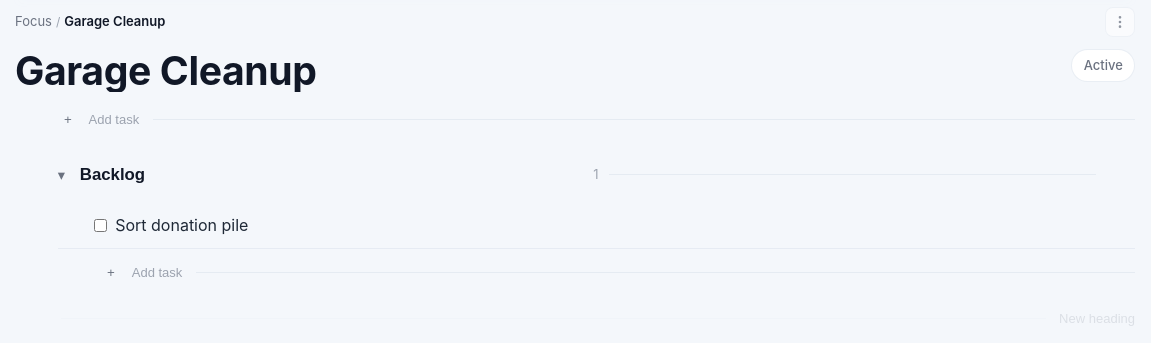
Test: ProjectEditorView › collapses and expands tasks under a heading
Expected: the button "Sort donation pile" is shown, 115,213 -> 1096,237
Click the button named "Collapse Backlog" at (61, 175), box 51,164 -> 72,185
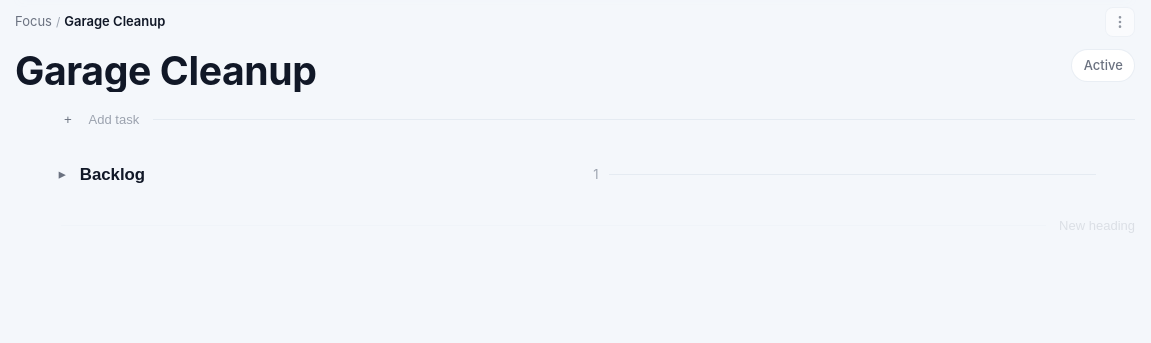
Expected: the button "Sort donation pile" is gone
Click the button named "Expand Backlog" at (61, 175), box 51,164 -> 72,185
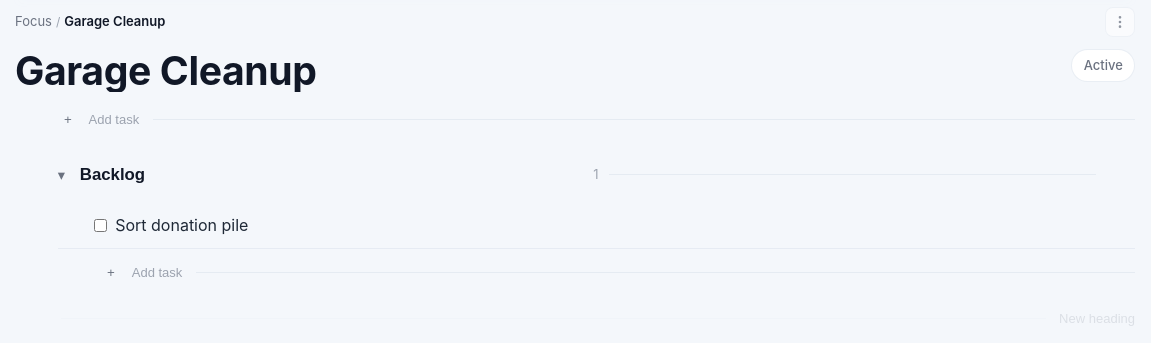
Expected: the button "Sort donation pile" is shown, 115,213 -> 1096,237
